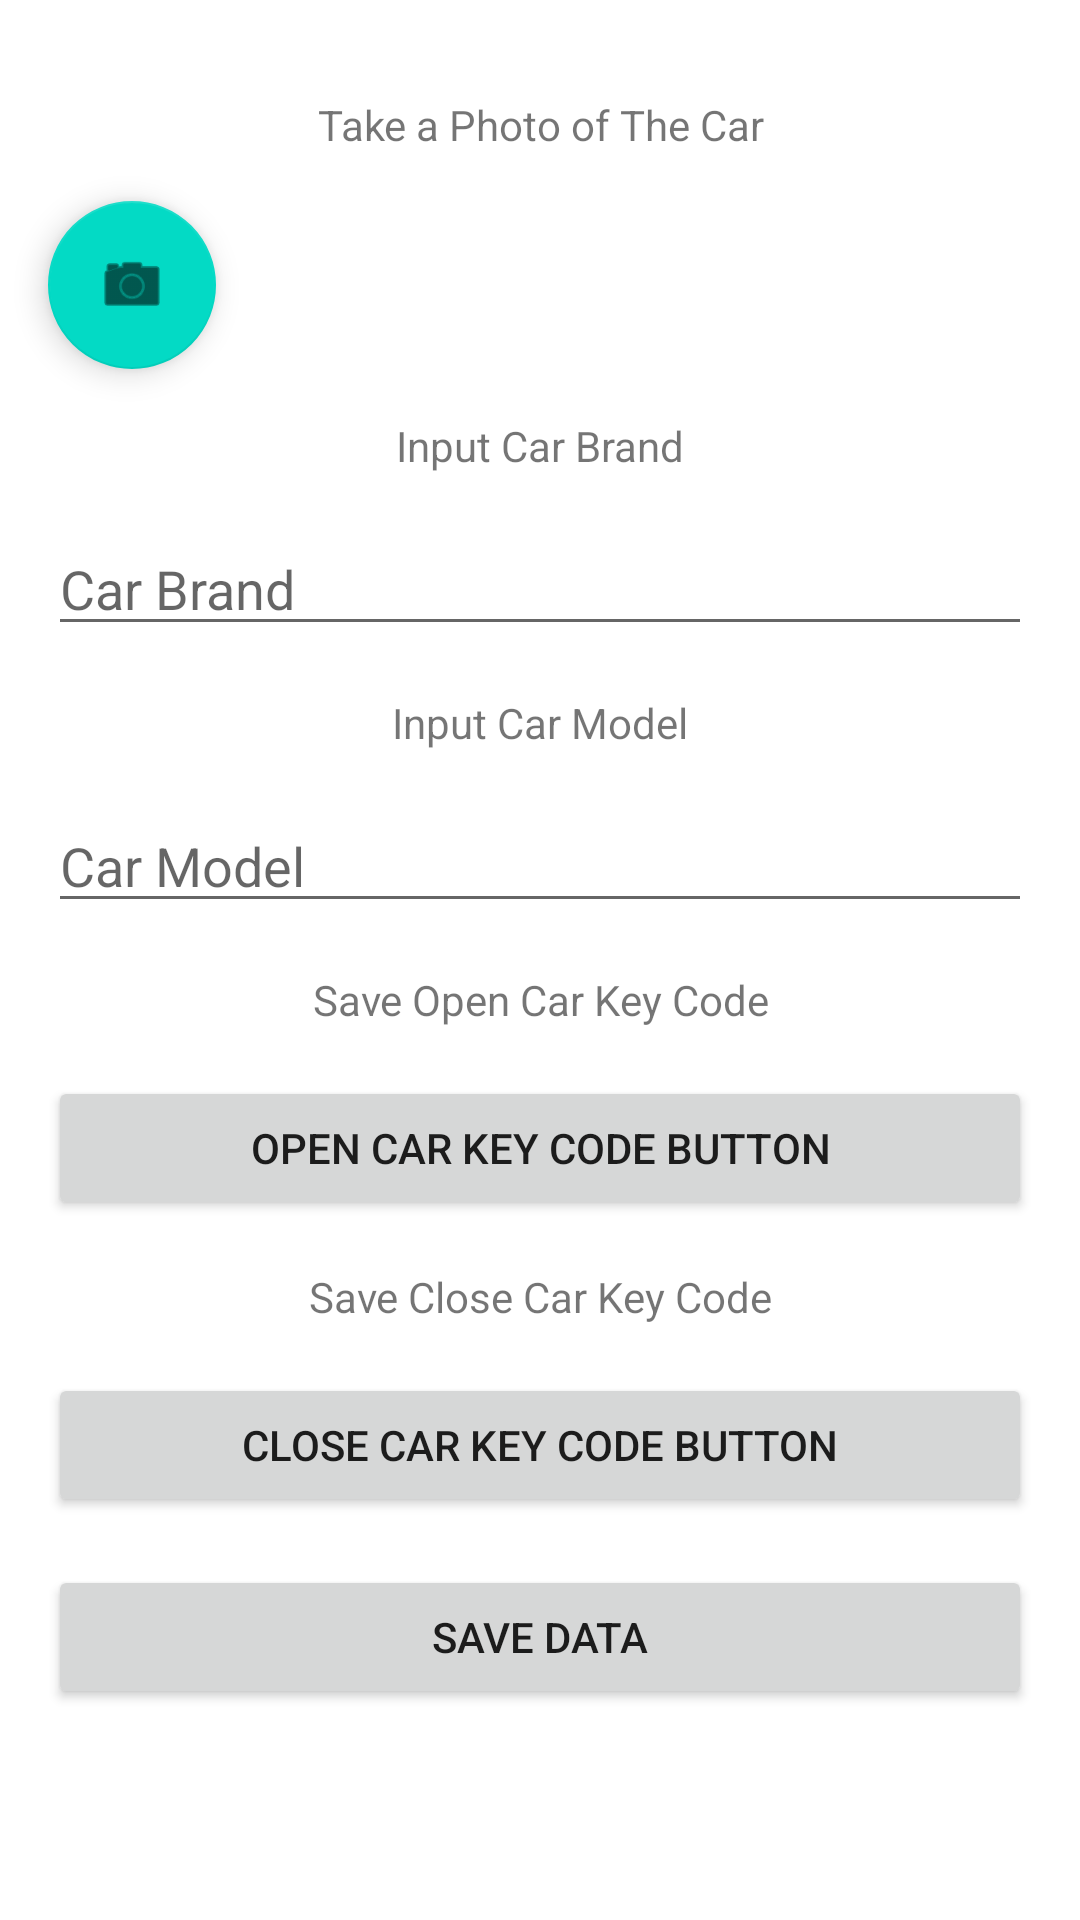

Where to tap for icons on this 1080*1920 app screen, as point (x, y):
camera: point (132, 285)
